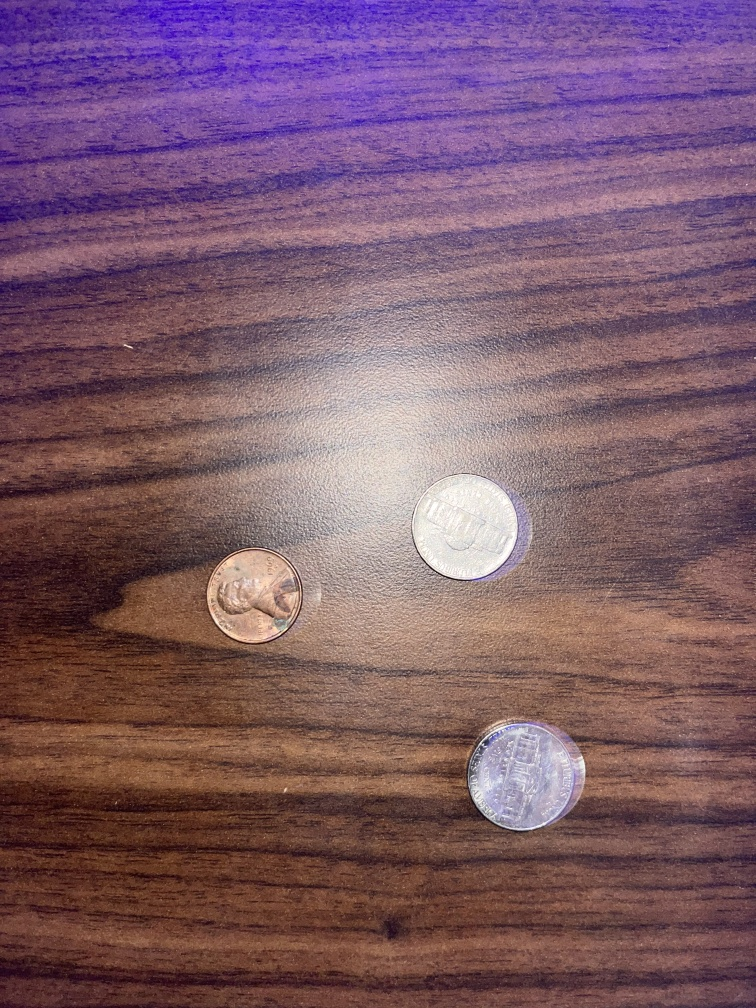nickel: (462, 713, 582, 838), (406, 468, 522, 588)
penny: (202, 543, 306, 651)
